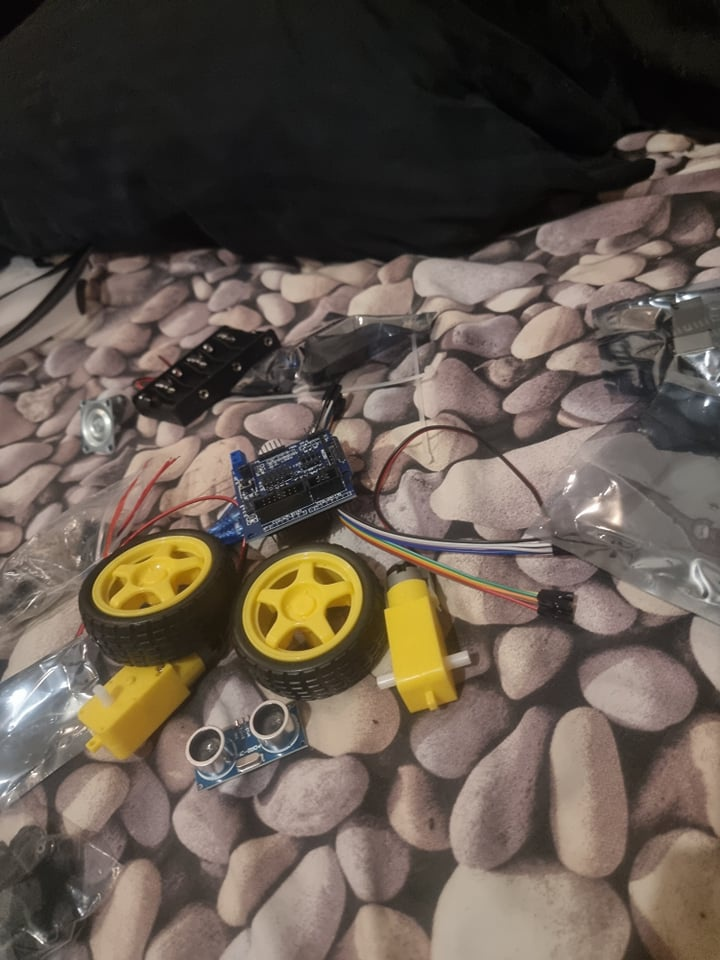5V EXPANSION: (229, 430, 360, 543)
BATTERY BOX: (132, 306, 274, 427)
SENSOR: (183, 699, 304, 783)
